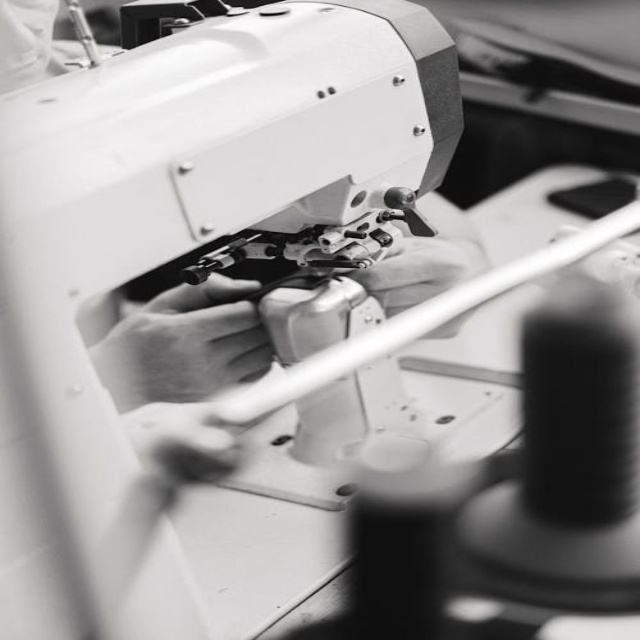Sin_guantes: (91, 271, 291, 410), (337, 233, 488, 338)
